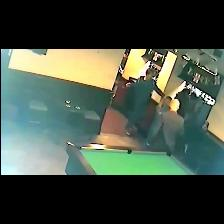person: (126, 69, 164, 135), (147, 99, 184, 155)
